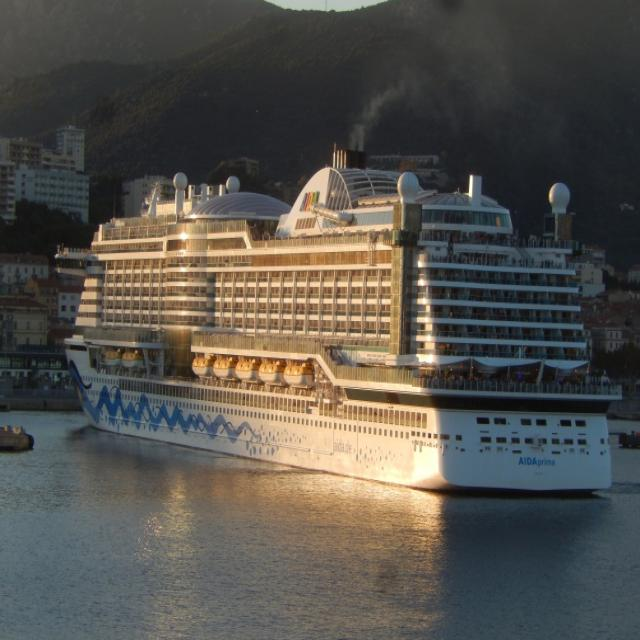cruises: (57, 127, 621, 505)
